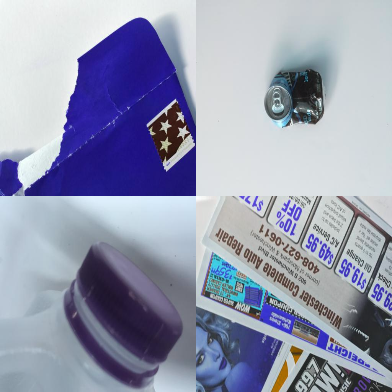metal: (264, 69, 324, 129)
paper: (196, 195, 392, 392), (1, 17, 196, 194)
plastic: (1, 239, 183, 392)
